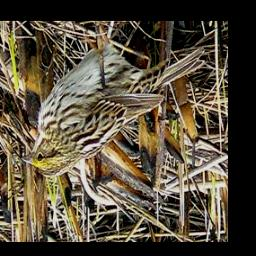Sparrow: (17, 26, 207, 177)
